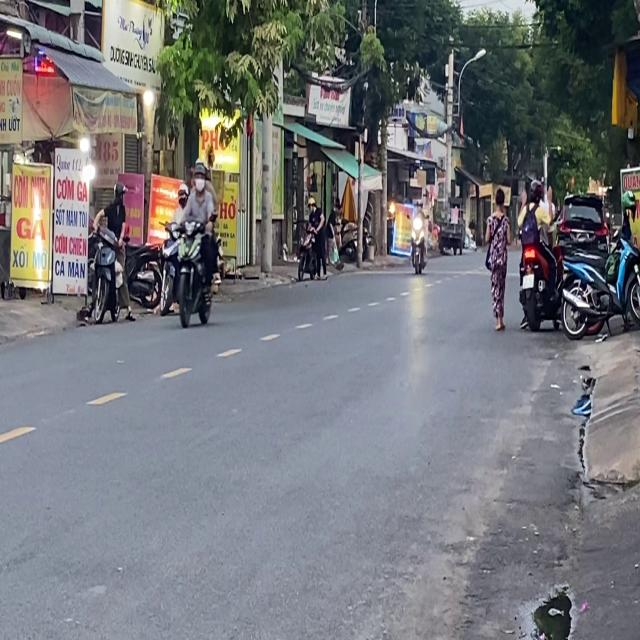helmet: (191, 158, 207, 192), (112, 182, 128, 207), (176, 181, 188, 205)
licenseplate: (171, 158, 220, 328), (88, 178, 136, 326), (516, 177, 560, 332)
nohelmet: (522, 274, 533, 288)
